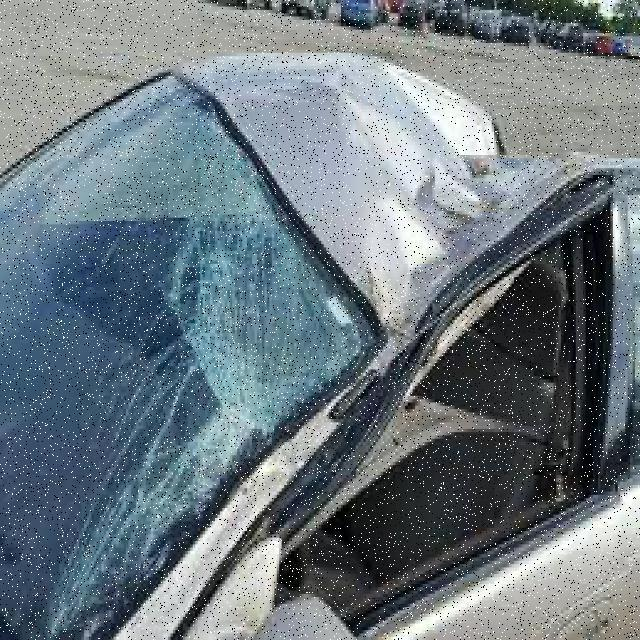Front-Windscreen-Damage: (0, 82, 210, 624)
roof-dent: (230, 71, 584, 279)
